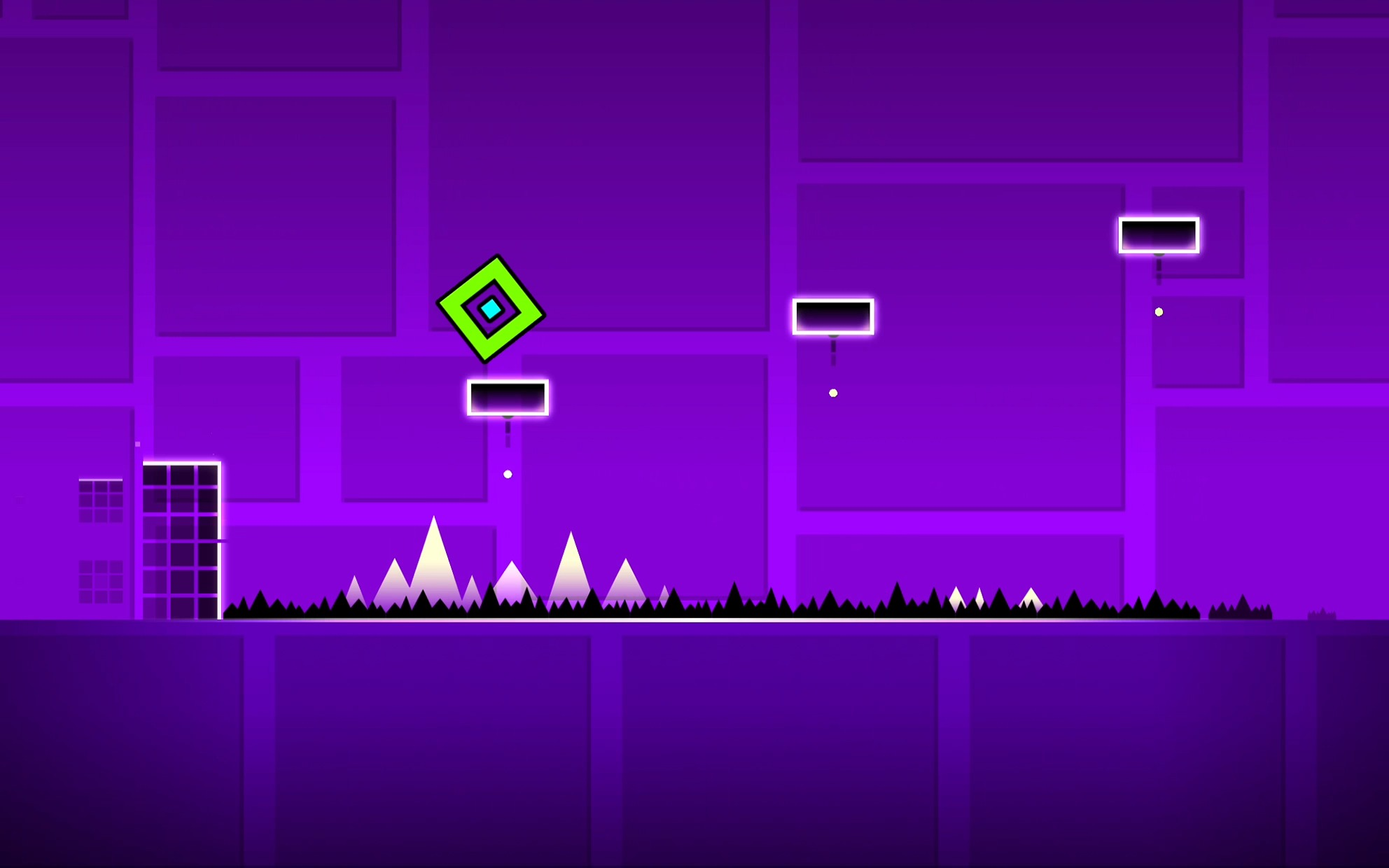Block2: (137, 464, 221, 618)
Block3: (790, 298, 876, 335), (1115, 216, 1200, 253), (465, 378, 549, 415)
Player: (435, 256, 543, 360)
Spike3: (225, 580, 1389, 619)
